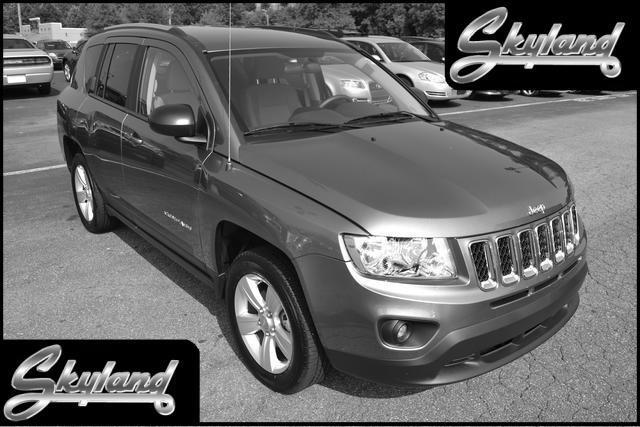car: (55, 22, 593, 399)
